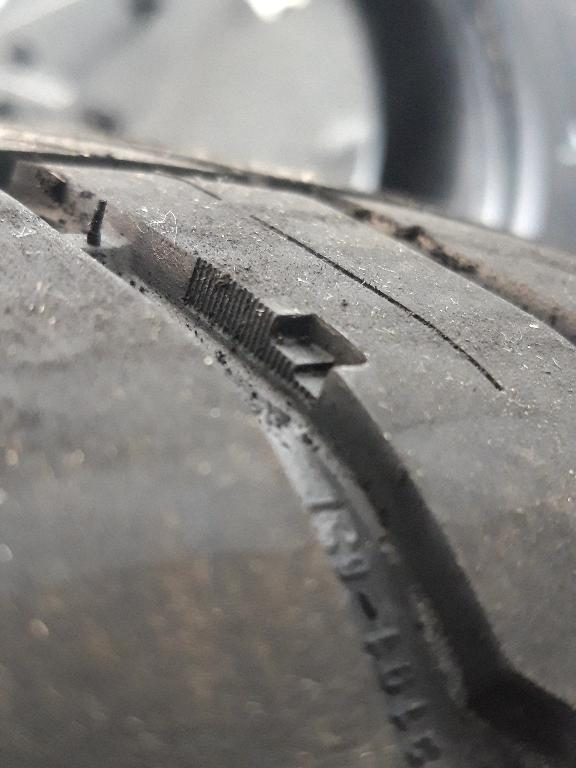temoin:50: (235, 294, 376, 420)
